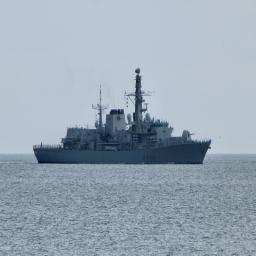Fragata: (33, 65, 214, 166)
